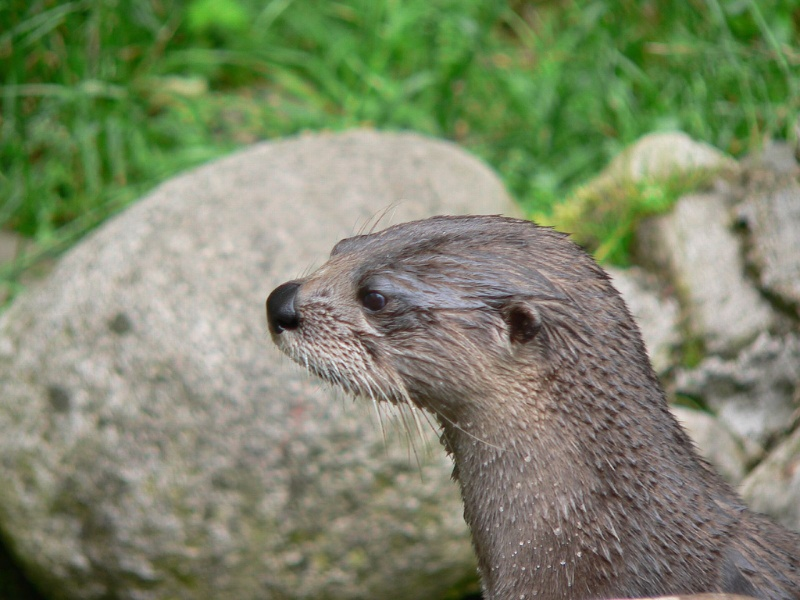minkish: (263, 216, 793, 600)
